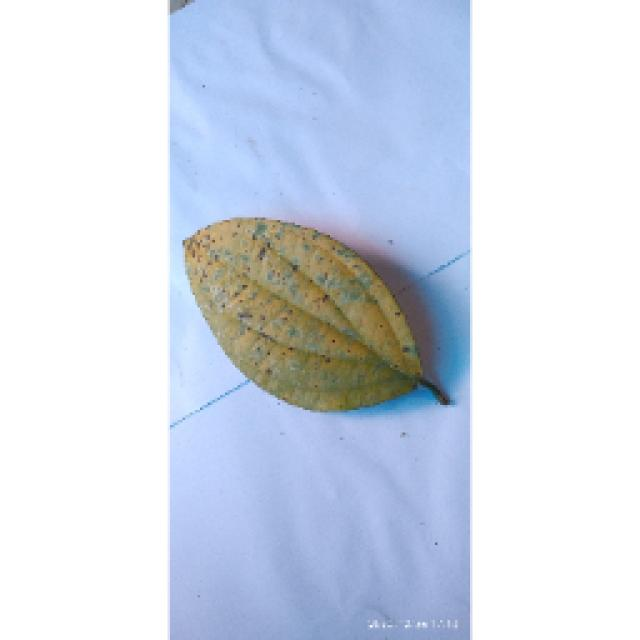slow-decline: (175, 213, 447, 415)
